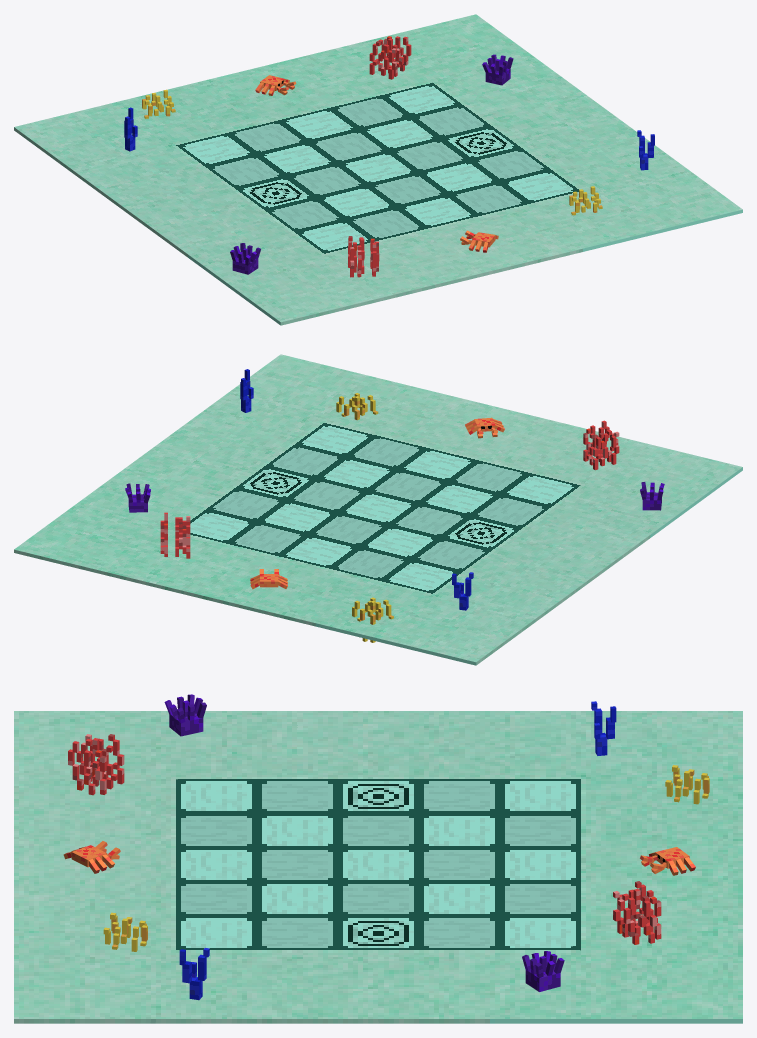
The model's file is board-water.gltf.
3 renders of one model, top to bottom at view 1: azimuth 30°, elevation 25°; view 2: azimuth 150°, elevation 25°; view 3: azimuth 270°, elevation 25°, orthographic. The views are drawn at different scales.
Visible parts, largest first — view 1: cube; view 2: cube; view 3: cube (×3).
Boxes of the visible parts, bbox=[...] form: cube: bbox=[14, 14, 742, 325]; cube: bbox=[14, 354, 742, 665]; cube (×3): bbox=[14, 711, 742, 1023].
Size of the model in its own units: 18 by 2.03 by 18.
Materials: 6 (6 with a texture image).
